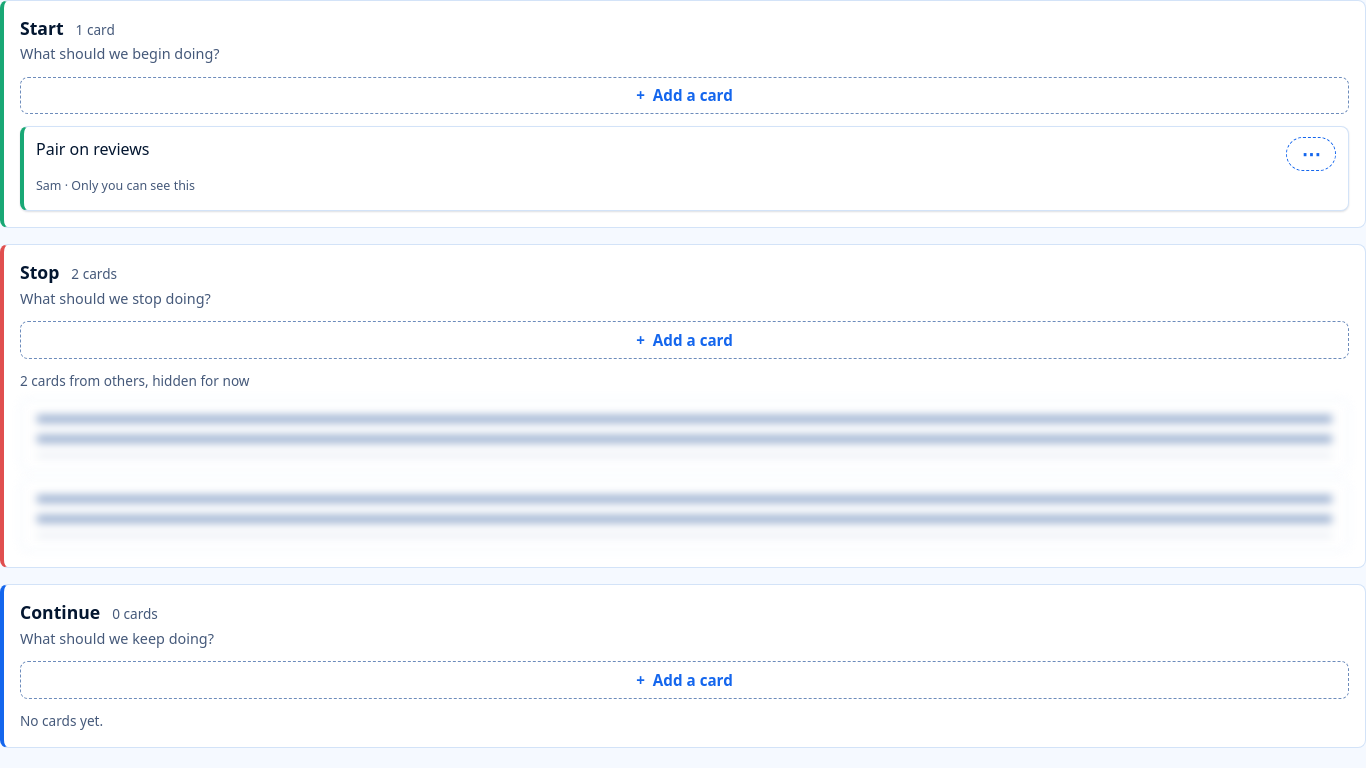
BoardListView › lets a participant add a card to every column and move a card with a menu, never a drag
Step 1. Click the button named "Card options" → click(1311, 154), box [1286,137,1336,171]
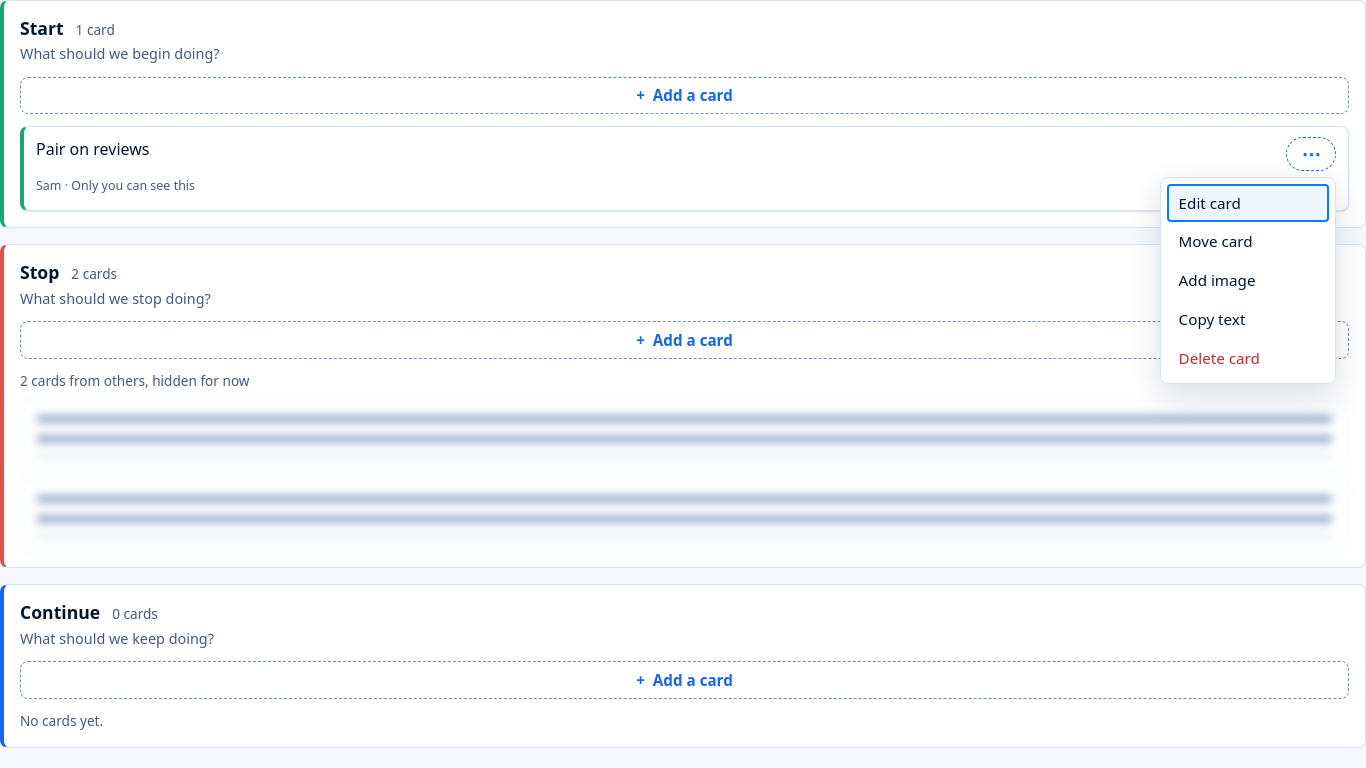
Step 2. Click the menu item "Move card" → click(1248, 242), box [1167,222,1329,261]
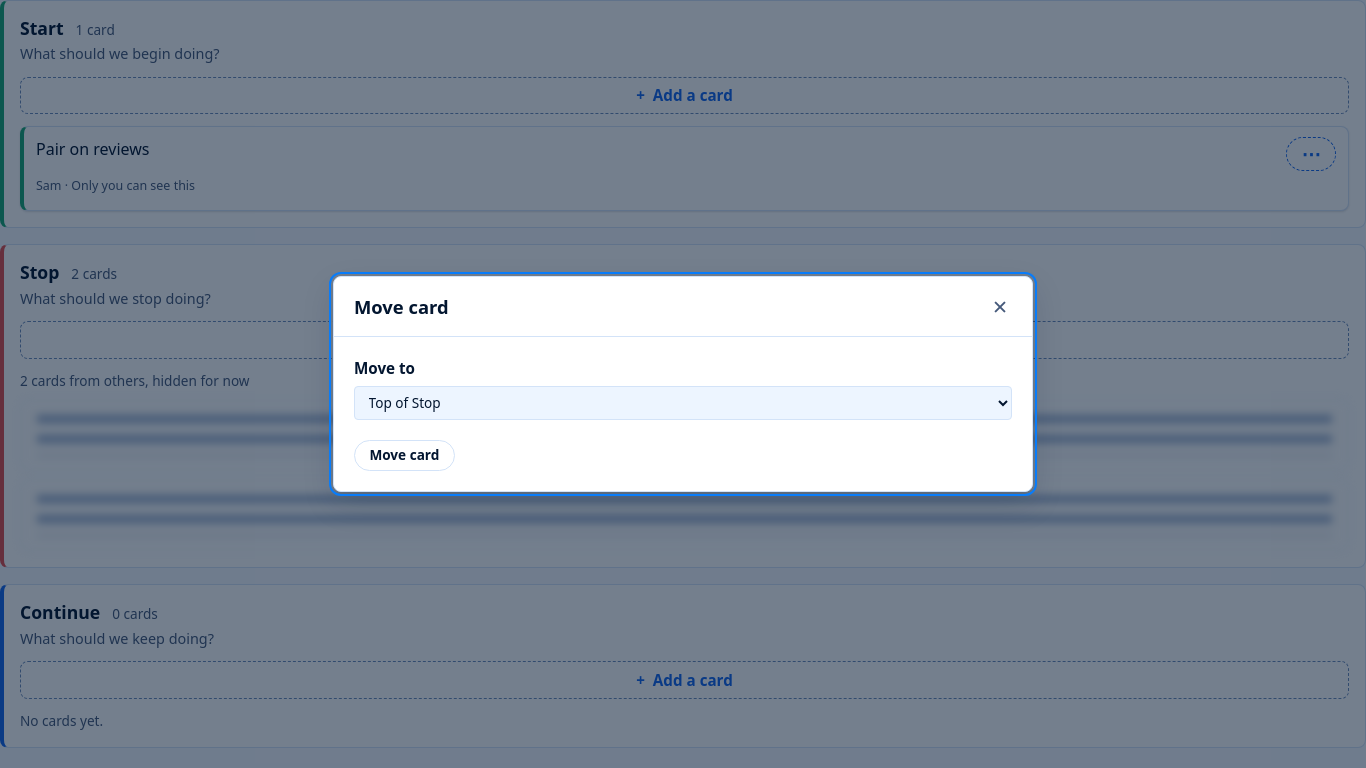
Now the number of buttons "+ Add a card" is 3, box [20,76,1349,114]; [20,321,1349,359]; [20,661,1349,699]
Now the dropdown labelled "Move to" is shown, box [354,386,1012,420]
